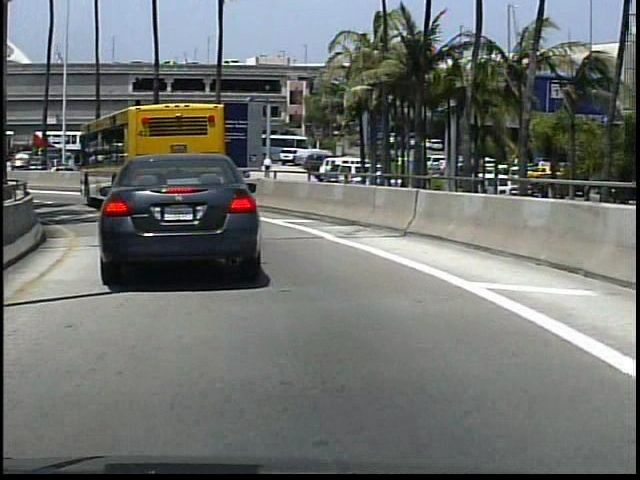person: (259, 152, 272, 182)
